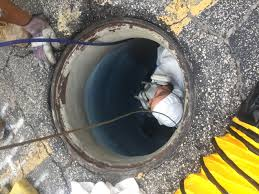Manhole-Open: (40, 13, 210, 174)
human: (137, 58, 185, 128)
